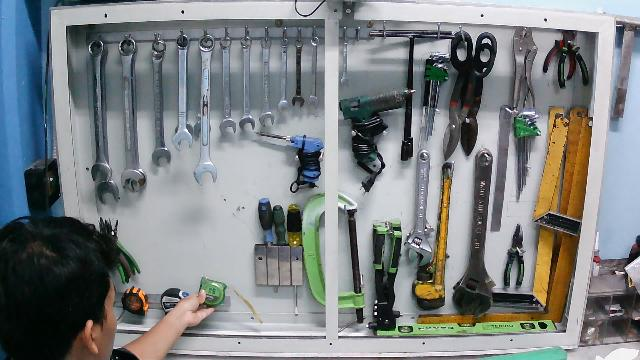meteran: (191, 273, 265, 327)
